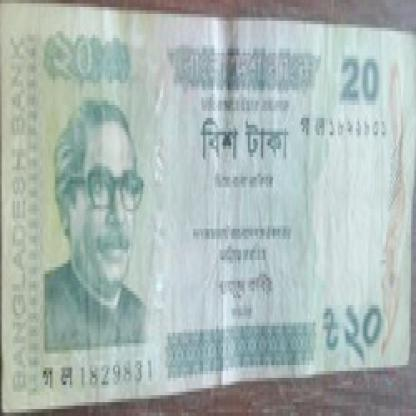Twenty: (42, 31, 134, 108), (192, 114, 294, 170), (318, 291, 384, 361), (334, 41, 384, 118)
